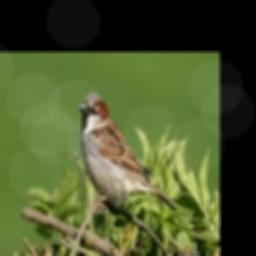Sparrow: (79, 93, 178, 213)
